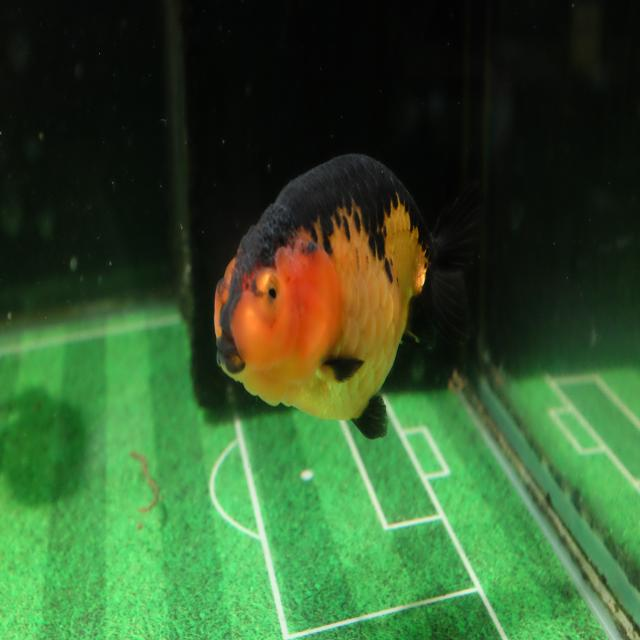Goldfish: (213, 151, 469, 443)
